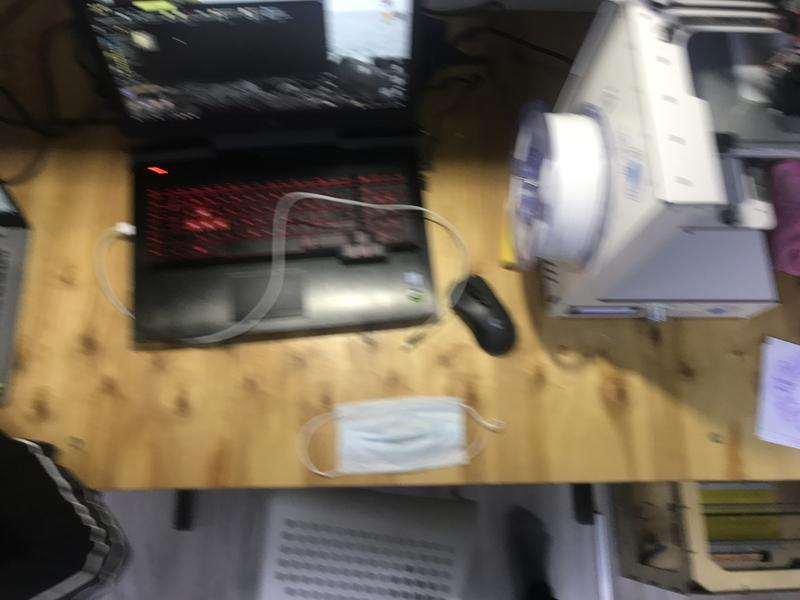medical_mask: (298, 398, 505, 477)
